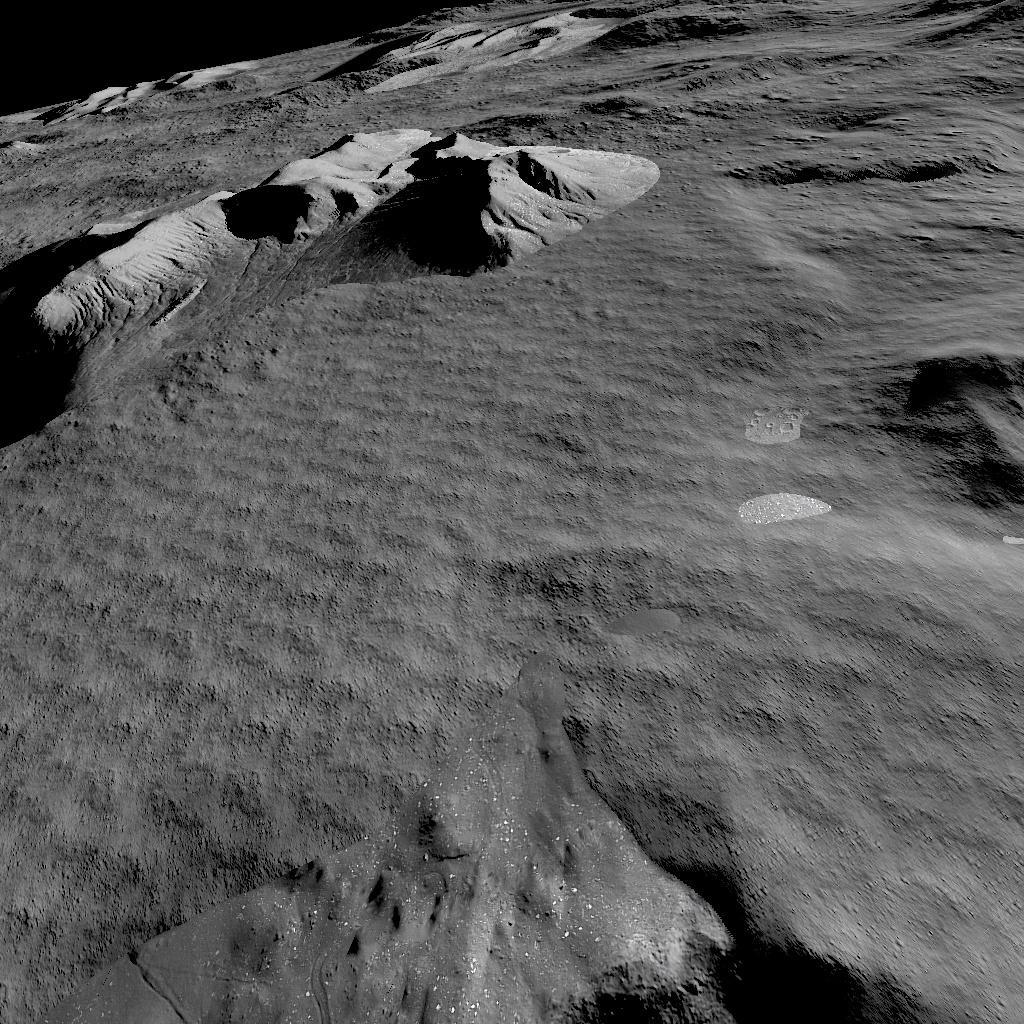Boulders: (0, 130, 658, 445), (326, 0, 755, 90), (38, 58, 260, 116)
Crater: (0, 818, 1024, 1024), (918, 350, 1024, 520), (716, 152, 978, 200)
Plan surface: (0, 458, 905, 806)
